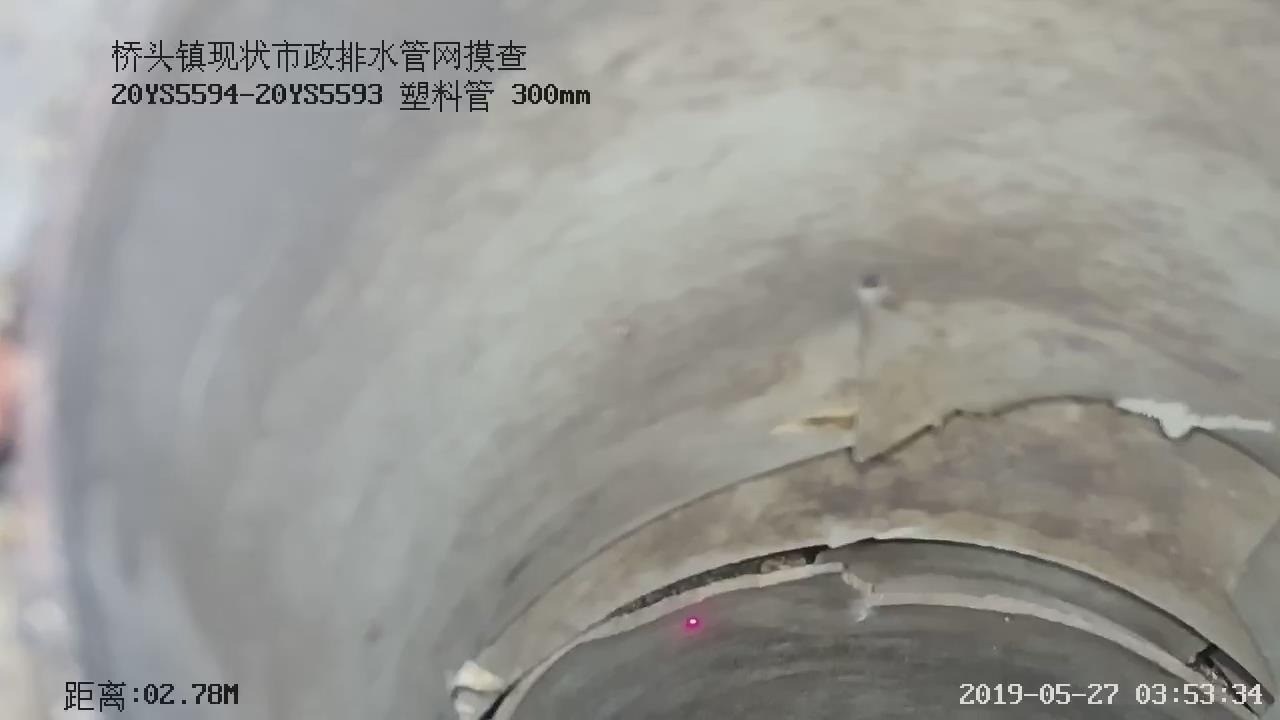PL: (413, 245, 1279, 720)
